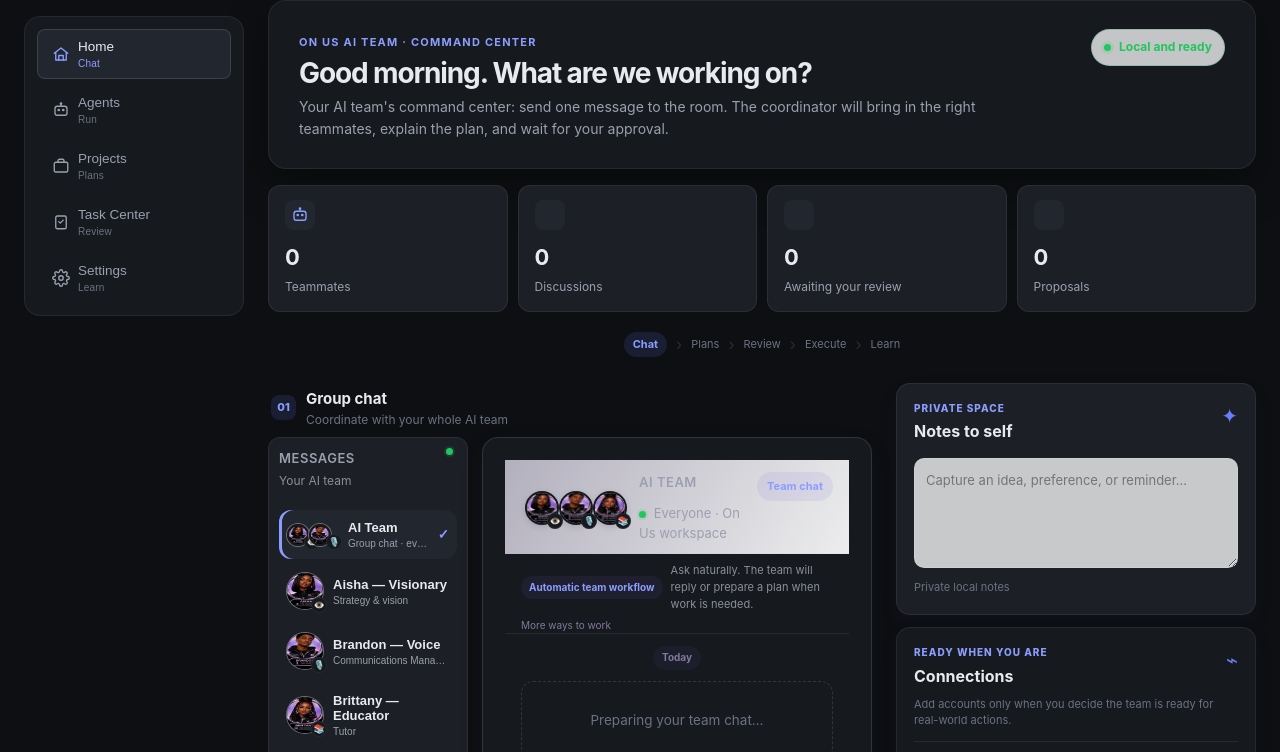
Test: Phase 4 — Task Center, Settings, conversation-to-task › filters tasks by status in the Task Center
Step 1. Click the button "Task Center Review" → (134, 222), box [37, 197, 231, 247]
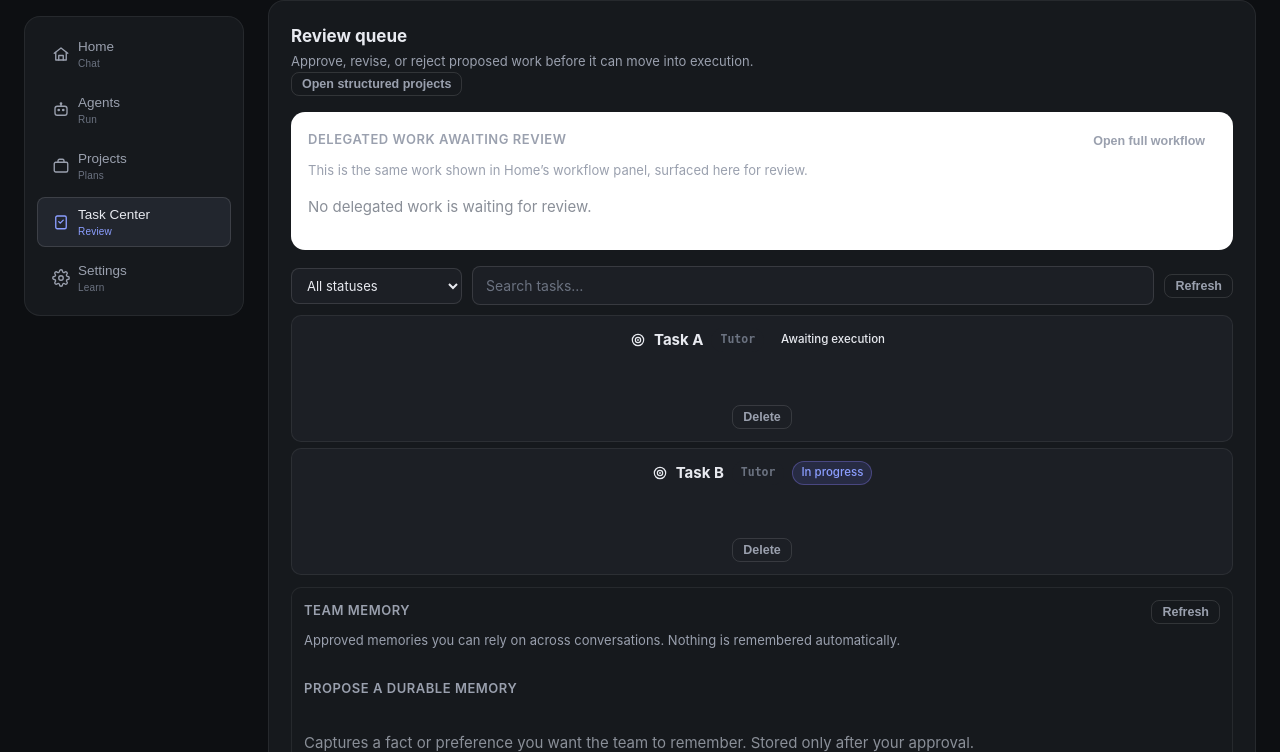
Expected: the text "Task A" is shown, [654, 330, 704, 349]
Expected: the text "Task B" is shown, [676, 463, 724, 482]
Step 2. Select "In progress" in the dropdown named "Task status filter" → (376, 286), box [291, 268, 462, 304]
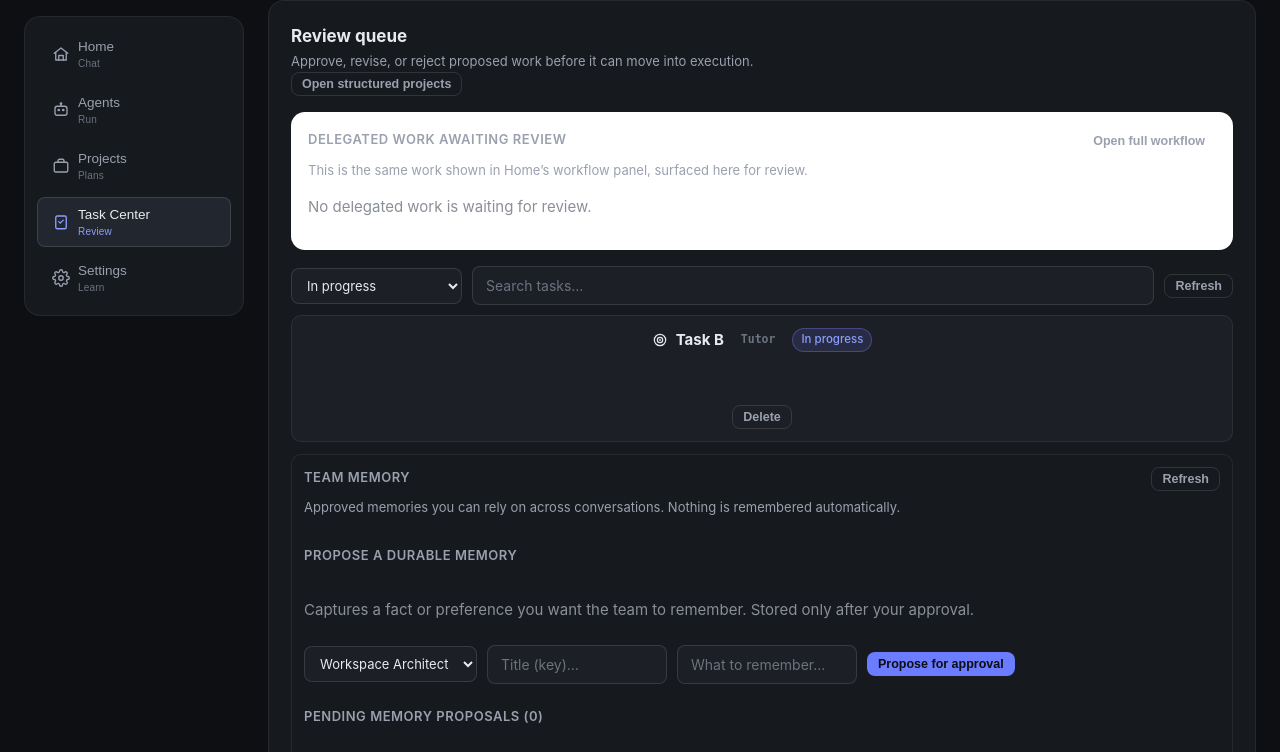
Expected: the text "Task B" is shown, [676, 330, 724, 349]
Expected: the text "Task A" is gone
